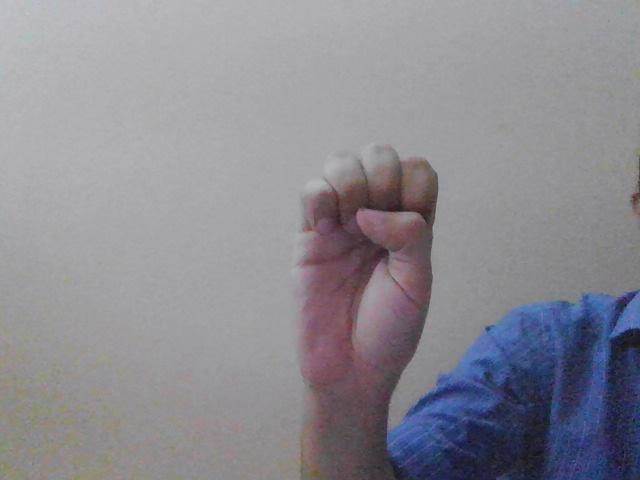E: (288, 138, 445, 378)
